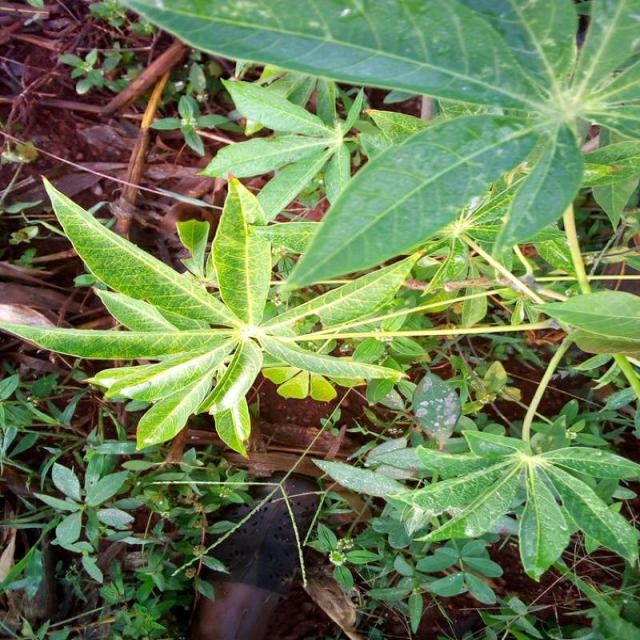cassava leaf: (277, 110, 545, 295)
